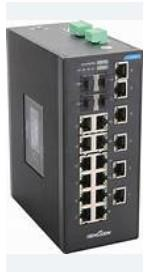NetworkSwitch: (6, 20, 143, 255)
